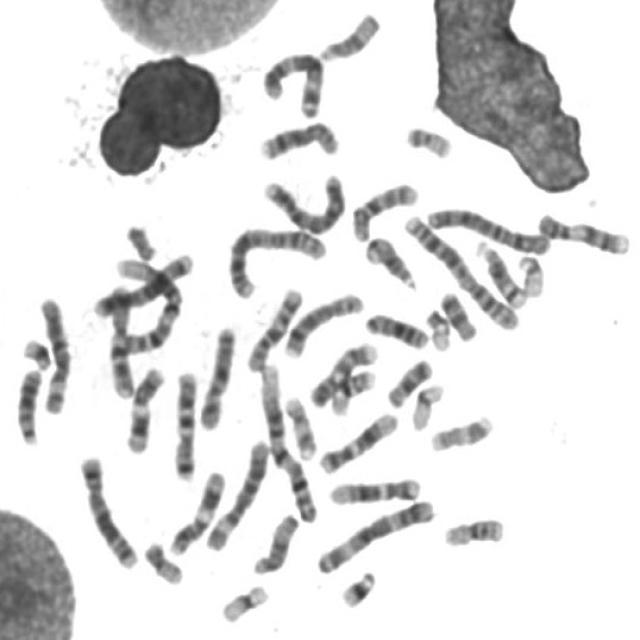A1: (254, 355, 322, 523), (107, 248, 186, 356)
A2: (398, 207, 524, 333), (221, 218, 330, 300)
A3: (309, 490, 440, 576), (255, 44, 326, 120)
B4: (420, 199, 553, 256), (257, 165, 349, 235)
B5: (72, 447, 140, 571), (88, 244, 196, 319)
C10: (240, 280, 306, 374), (345, 175, 421, 243)
C11: (163, 462, 228, 558), (119, 358, 168, 455)
C12: (313, 404, 401, 476), (322, 469, 423, 506)
C6: (200, 432, 271, 552), (32, 288, 74, 415)
C7: (101, 275, 138, 398), (168, 364, 200, 482)
C8: (278, 285, 366, 359), (254, 113, 342, 162)
C9: (304, 334, 380, 409), (532, 204, 633, 256)
D13: (359, 304, 432, 351), (11, 360, 45, 446)
D14: (470, 231, 530, 310), (359, 229, 419, 290)
D15: (313, 4, 383, 63), (246, 506, 301, 577)
E16: (325, 362, 378, 417), (438, 509, 508, 549)
E17: (425, 406, 496, 454), (279, 388, 319, 461)
E18: (382, 351, 435, 409), (434, 283, 481, 342)
F19: (214, 577, 271, 625), (406, 375, 447, 432)
F20: (138, 533, 186, 586), (400, 117, 454, 159)
G21: (334, 562, 380, 609), (15, 331, 55, 372)
G22: (513, 247, 547, 298), (420, 302, 454, 352)
X: (193, 317, 239, 432)
Y: (120, 216, 158, 262)
